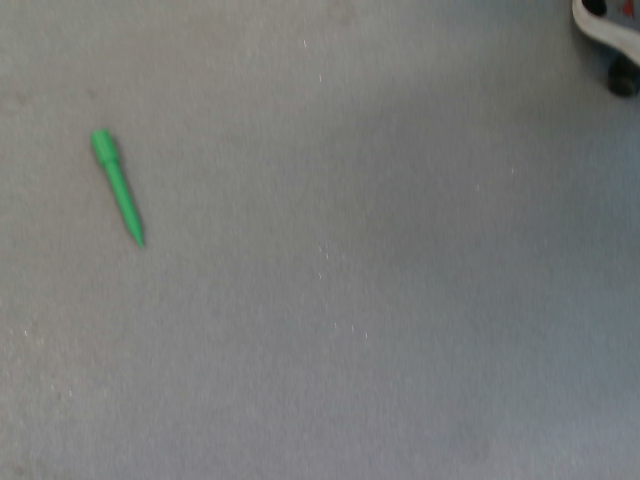Probe: (85, 122, 150, 256)
